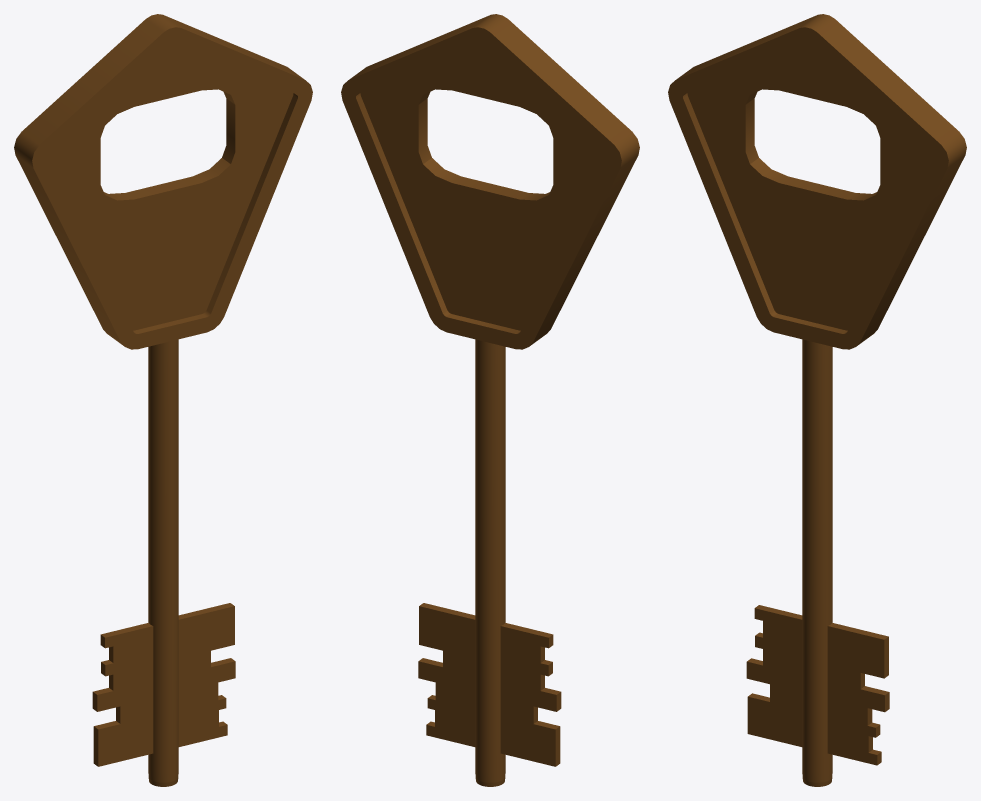
File: KEY_-_3D_MODEL.obj
3 renders of one model, left to right at view 1: azimuth 30°, elevation 25°; view 2: azimuth 150°, elevation 25°; view 3: azimuth 330°, elevation 25°, orthographic.
Visible parts, largest first — view 1: obj1; view 2: obj1; view 3: obj1.
Boxes of the visible parts, x1=… form: obj1: x1=14, y1=14, x2=312, y2=786; obj1: x1=341, y1=14, x2=639, y2=786; obj1: x1=668, y1=14, x2=966, y2=786.
Bounding box in the file's own units: 0.1184 × 0.3061 × 0.0132.
